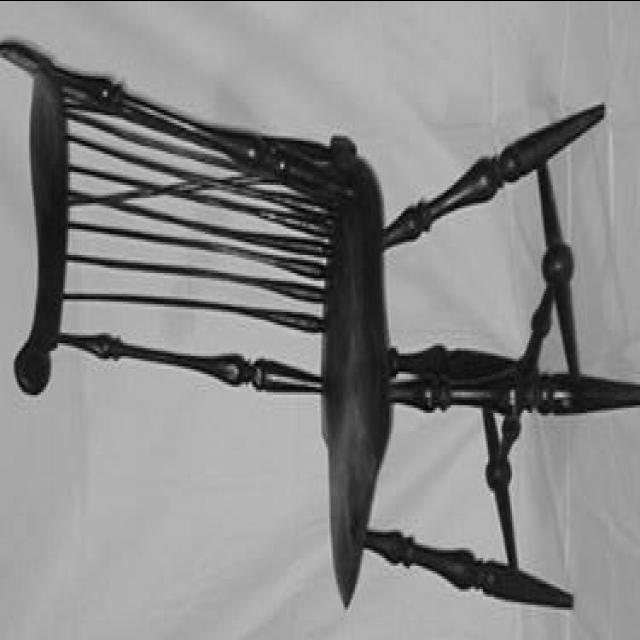chair: (0, 26, 639, 608)
